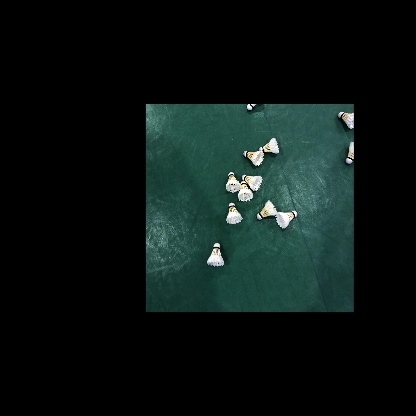ball_single: (256, 200, 278, 220), (207, 243, 224, 267), (275, 211, 297, 229), (226, 203, 243, 224), (237, 181, 254, 202), (242, 174, 263, 191), (259, 138, 279, 154), (226, 172, 241, 193), (243, 151, 264, 166), (338, 112, 354, 129), (345, 141, 354, 164), (247, 104, 257, 110)
